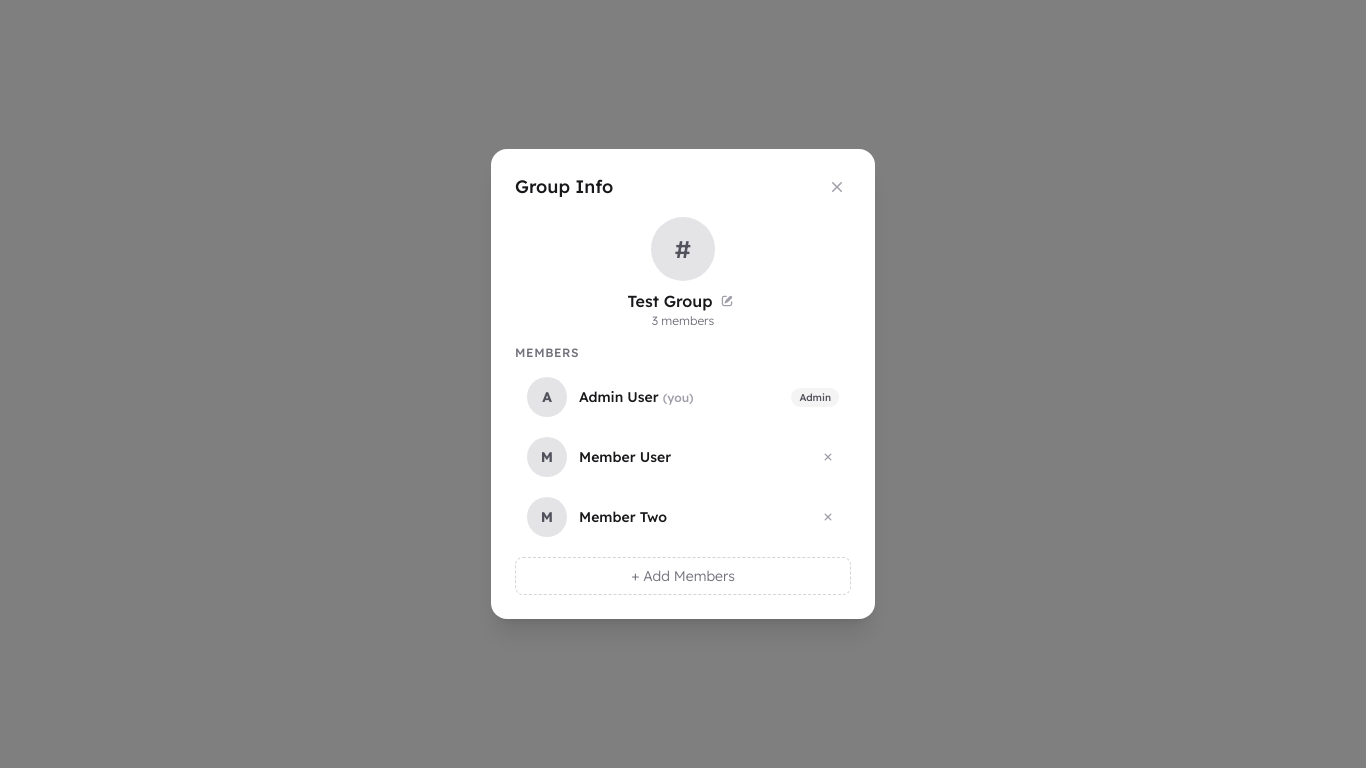
Test: GroupChatSettings › shows name input when edit button is clicked
Step 1. Click the button named "Edit group name" → [728, 301], box [716,290,738,312]
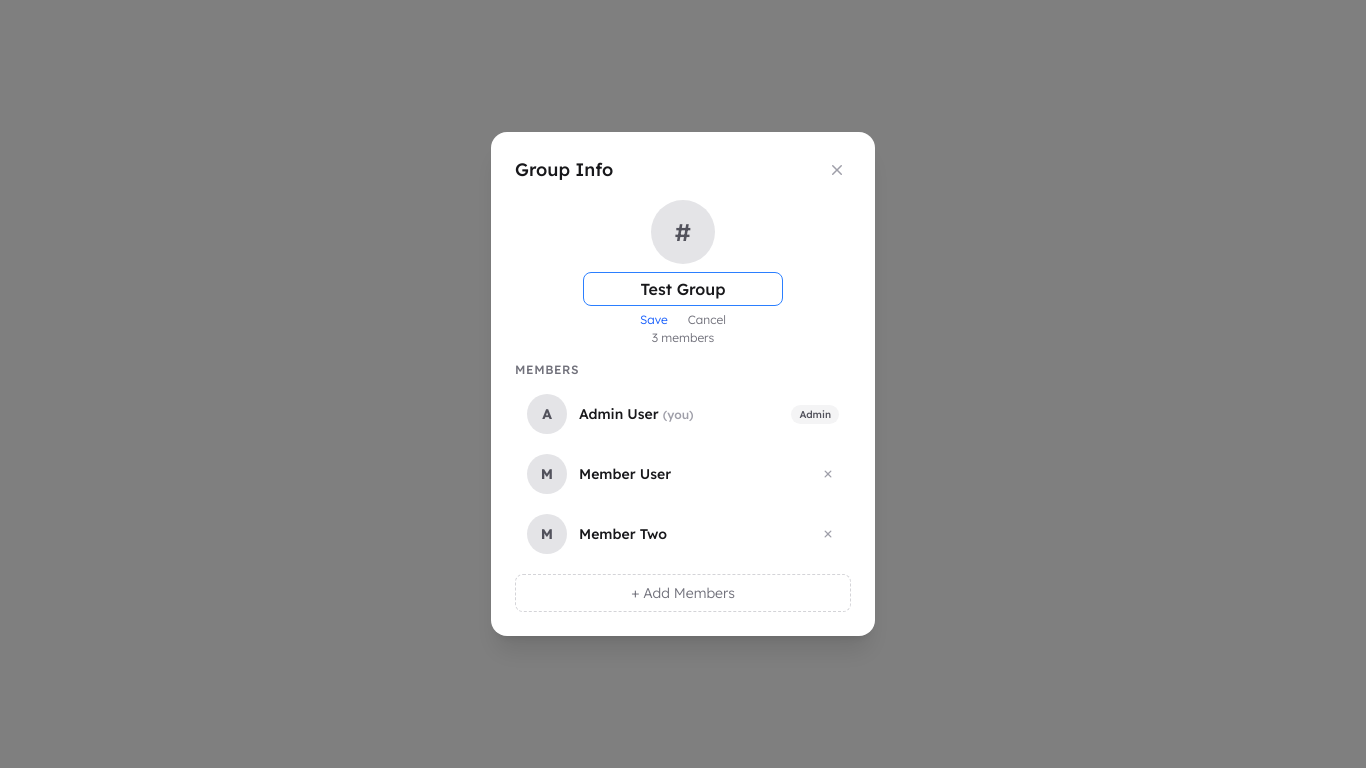
Check: the field showing "Test Group" is shown, box [583,272,783,306]
Check: the button "Save" is shown, box [632,310,676,330]
Check: the button "Cancel" is shown, box [680,310,734,330]
